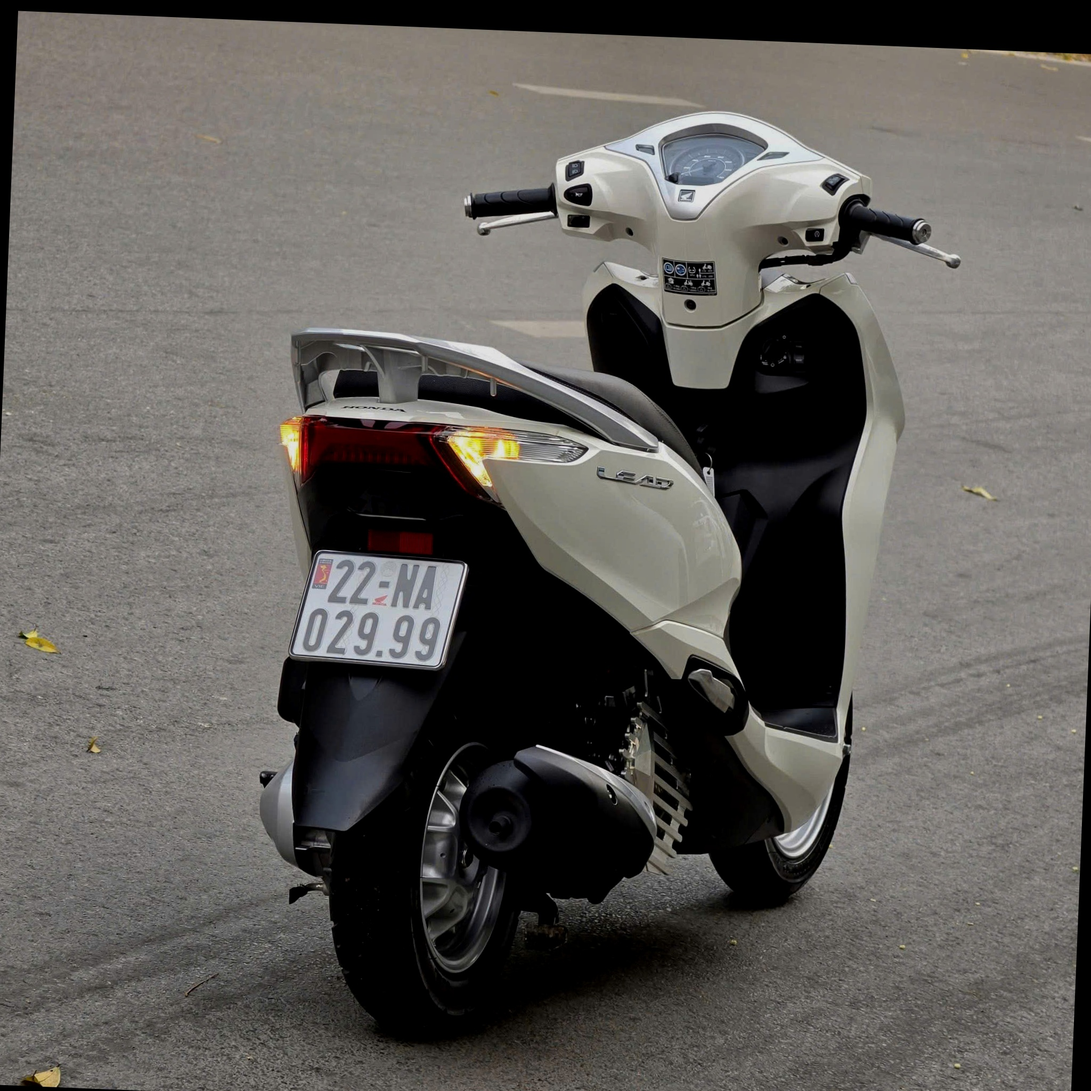Bien-so: (282, 514, 468, 635)
